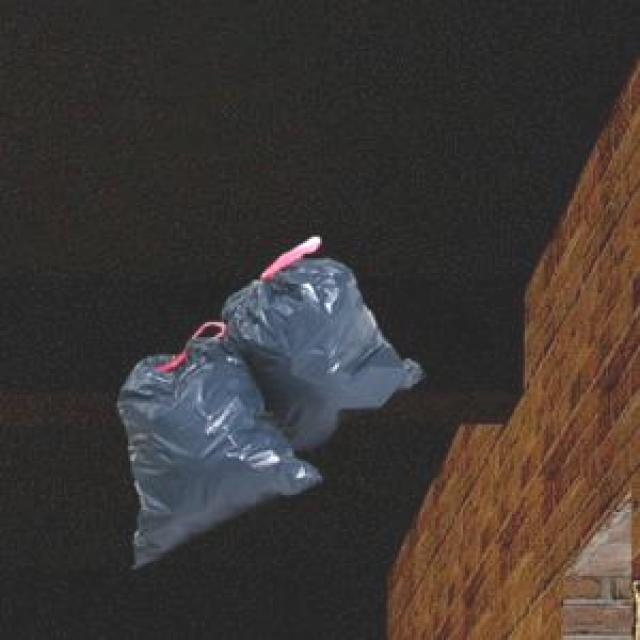Trashbag: (110, 336, 274, 572), (242, 254, 421, 454)
